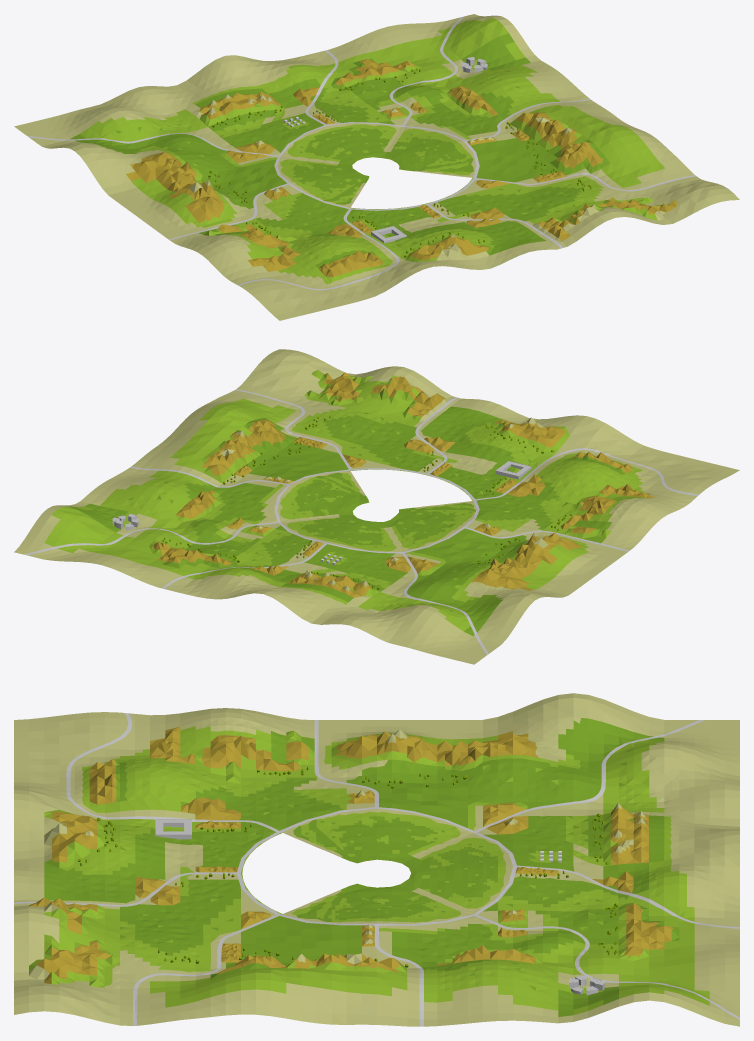
Rendered from terrain_hills_with_paths.glb.
3 views of the same model, one above another, from view 1: azimuth 30°, elevation 25°; view 2: azimuth 150°, elevation 25°; view 3: azimuth 270°, elevation 25° (orthographic). The views are drawn at different scales.
Visible parts, largest first — view 1: TERRAIN_X1; view 2: TERRAIN_X1; view 3: TERRAIN_X1.
Part boxes in pixels (x1=…): TERRAIN_X1: x1=14, y1=14, x2=739, y2=320; TERRAIN_X1: x1=14, y1=349, x2=739, y2=664; TERRAIN_X1: x1=14, y1=693, x2=739, y2=1026.
Size of the model in its own units: 120000 by 6467 by 120000.
